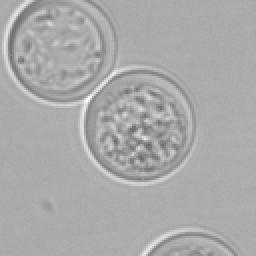picoshell: (80, 66, 194, 184), (2, 0, 116, 106), (140, 228, 236, 254)
